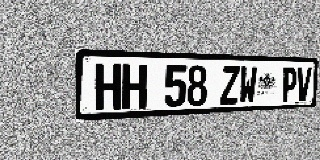5: (165, 65, 187, 107)
8: (187, 65, 208, 106)
H: (95, 64, 121, 111), (122, 64, 147, 109)
P: (281, 67, 298, 102)
V: (296, 67, 312, 101)
W: (239, 66, 257, 104)
Z: (220, 66, 240, 105)
